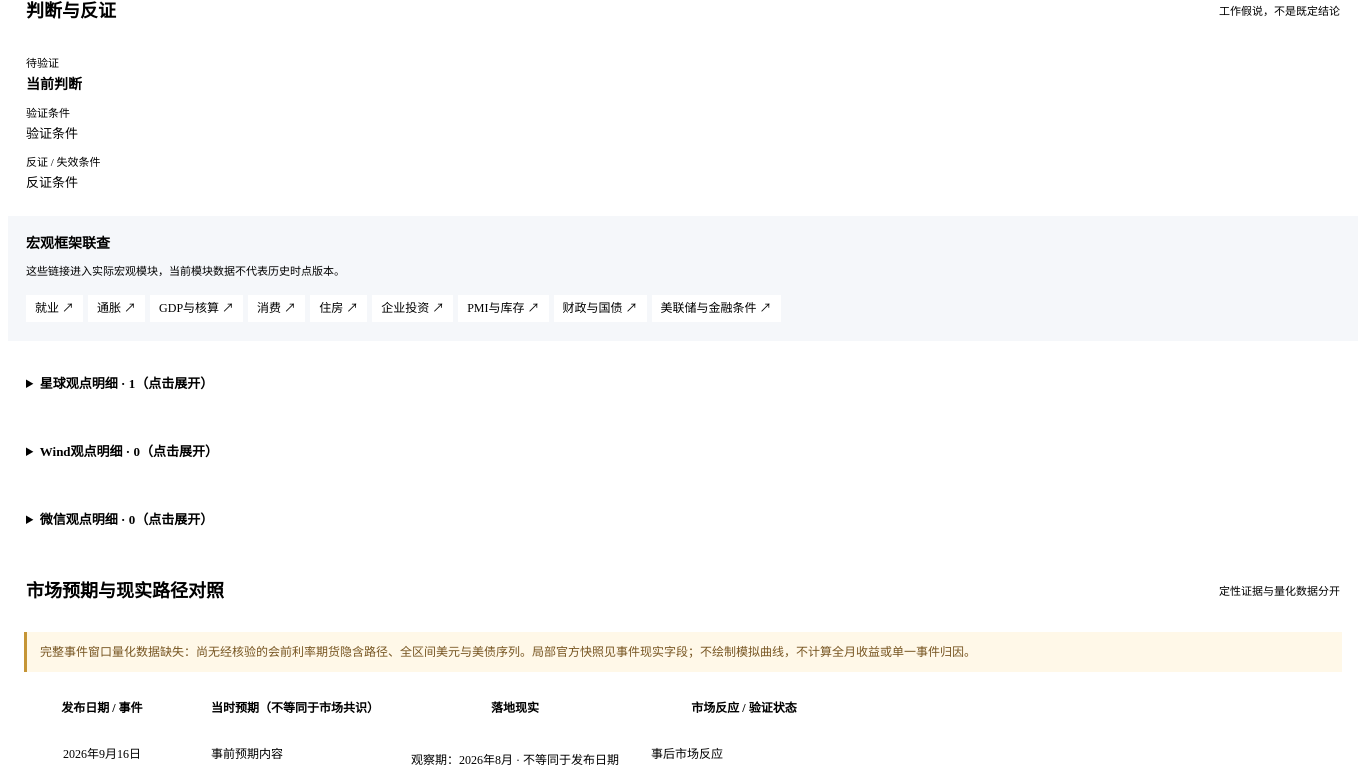
Test: 星球文件名归档观点日期不写作平台日或已核正文日
(page scrolled)
Click the heading "星球观点明细 · 1（点击展开）": point(126, 383) [40,376,213,391]
(page scrolled)
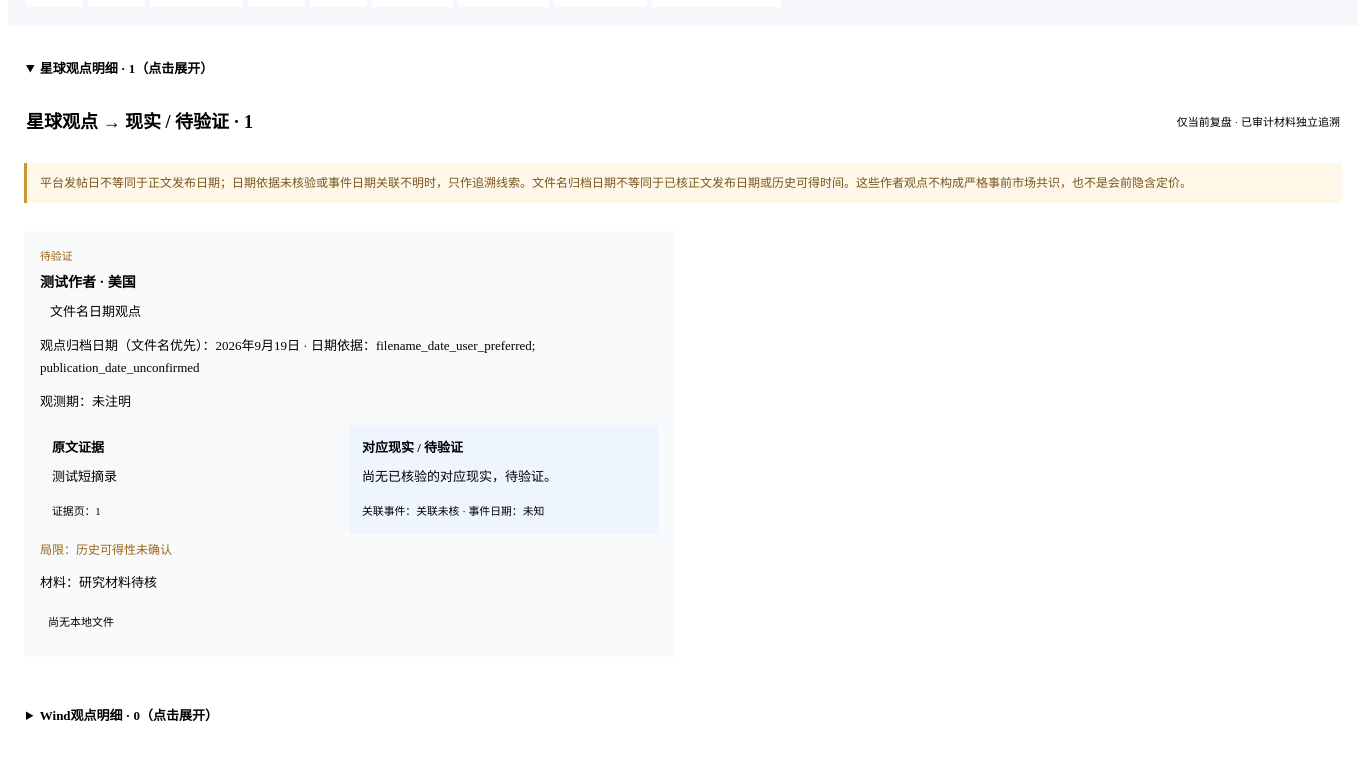
Now the element named "星球观点独立追溯" shows "文件名归档日期不等同于已核正文发布日期或历史可得时间", box [40,176,1192,190]
